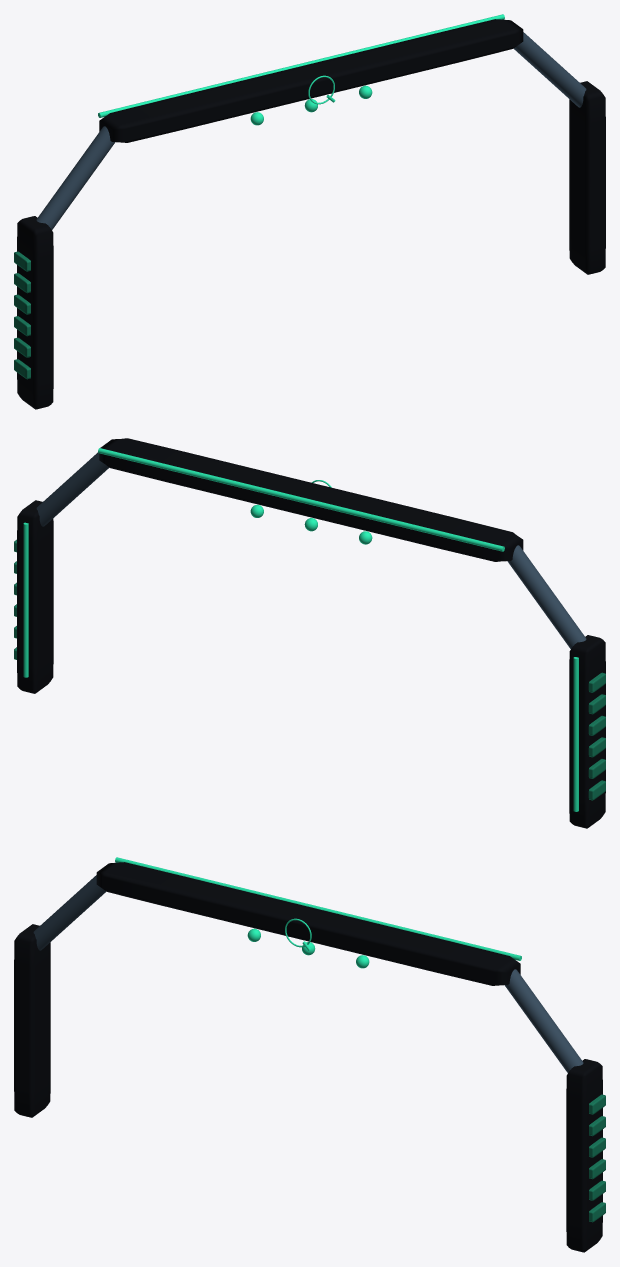
Rendered from prism-start-arch.obj.
The picture shows the model from 3 angles, top to bottom: view 1: azimuth 30°, elevation 25°; view 2: azimuth 150°, elevation 25°; view 3: azimuth 330°, elevation 25°; orthographic projection.
Visible parts, largest first — view 1: beveled-plate_part_17, beveled-plate_part_10, beveled-plate_part_3, cylinder_part_19, cylinder_part_21, cylinder_part_23; view 2: beveled-plate_part_17, beveled-plate_part_10, beveled-plate_part_3, cylinder_part_23, cylinder_part_19, cylinder_part_21, cylinder_part_22, cylinder_part_20; view 3: beveled-plate_part_17, beveled-plate_part_3, beveled-plate_part_10, cylinder_part_21, cylinder_part_19, cylinder_part_23.
Boxes of the visible parts, x1,y1,x2,y2 form: beveled-plate_part_17: [99, 19, 523, 142]; beveled-plate_part_10: [569, 81, 605, 274]; beveled-plate_part_3: [17, 216, 53, 409]; cylinder_part_19: [36, 126, 115, 229]; cylinder_part_21: [513, 32, 586, 107]; cylinder_part_23: [98, 14, 504, 117]; beveled-plate_part_17: [99, 438, 523, 561]; beveled-plate_part_10: [17, 500, 53, 693]; beveled-plate_part_3: [569, 635, 605, 828]; cylinder_part_23: [98, 448, 504, 551]; cylinder_part_19: [507, 545, 586, 648]; cylinder_part_21: [36, 452, 109, 526]; cylinder_part_22: [23, 522, 28, 677]; cylinder_part_20: [573, 657, 578, 811]; beveled-plate_part_17: [96, 862, 520, 985]; beveled-plate_part_3: [14, 924, 50, 1117]; beveled-plate_part_10: [566, 1059, 602, 1252]; cylinder_part_21: [504, 969, 583, 1072]; cylinder_part_19: [33, 875, 106, 950]; cylinder_part_23: [115, 857, 521, 960].
Bounding box in the file's own units: 16.05 × 7.08 × 1.1.
